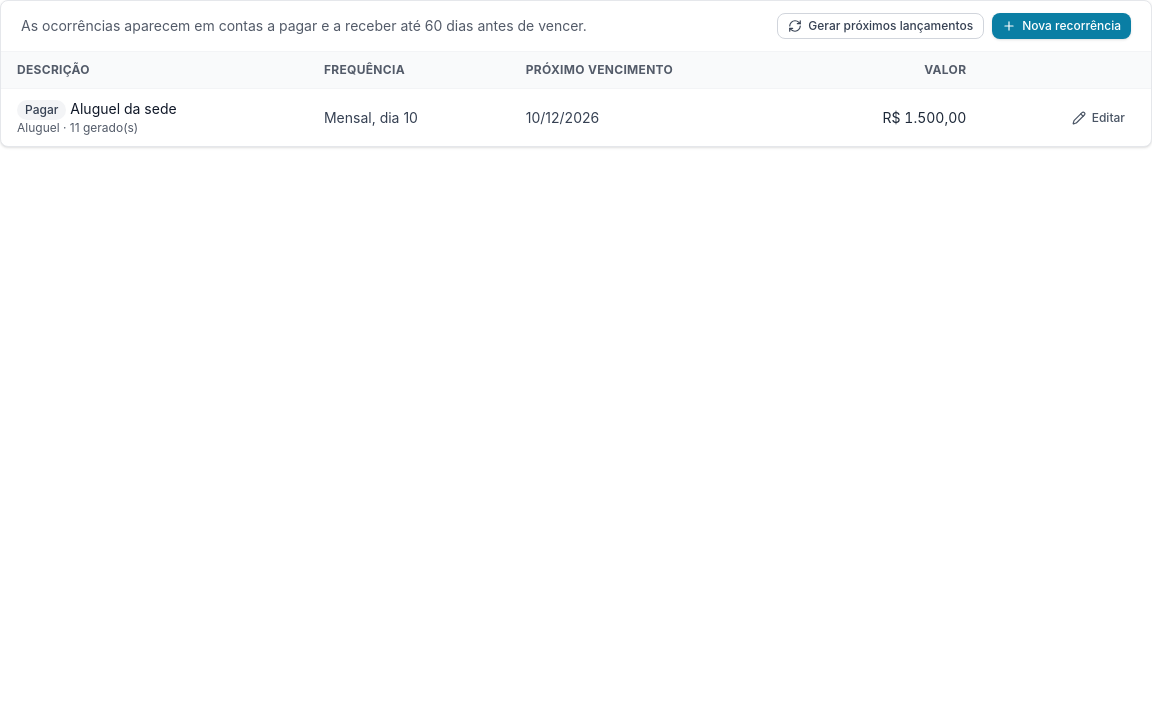
Test: Cadastros › Recorrências › nada a gerar: diz que está tudo em dia
Check: the text "Aluguel · 11 gerado(s)" is shown, box [17, 120, 138, 135]
Click the button "Gerar próximos lançamentos" at (881, 26), box [777, 13, 984, 39]
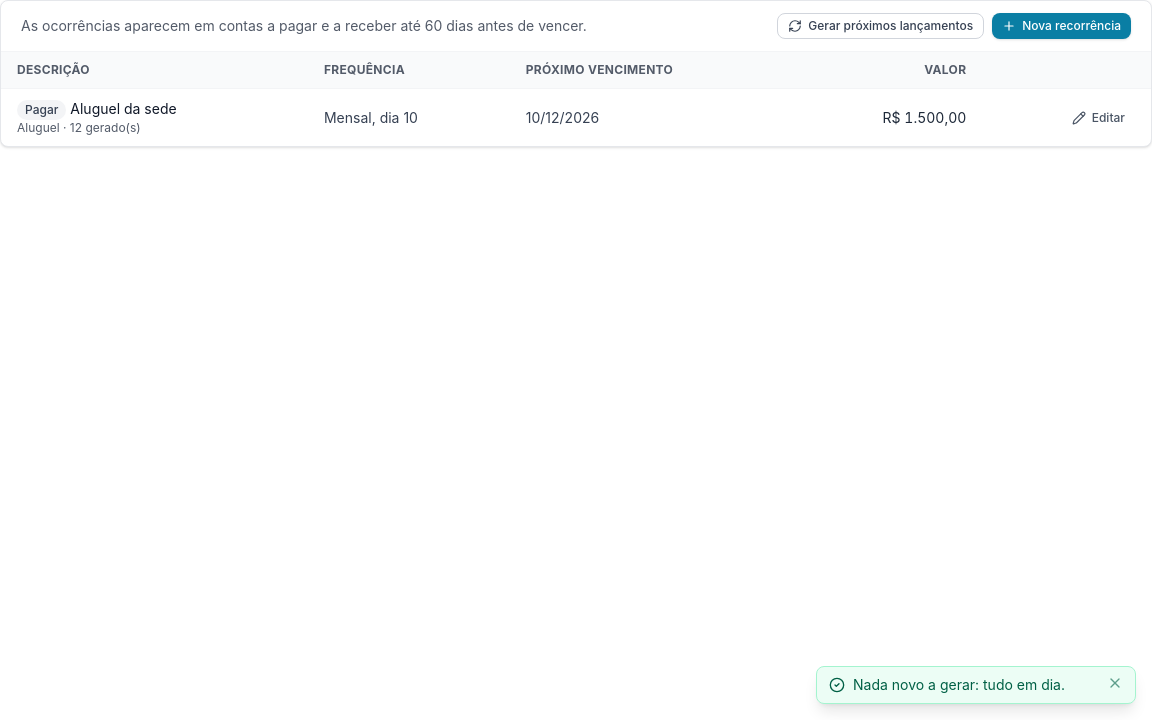
Check: the text "Nada novo a gerar: tudo em dia." is shown, box [853, 675, 1099, 695]
